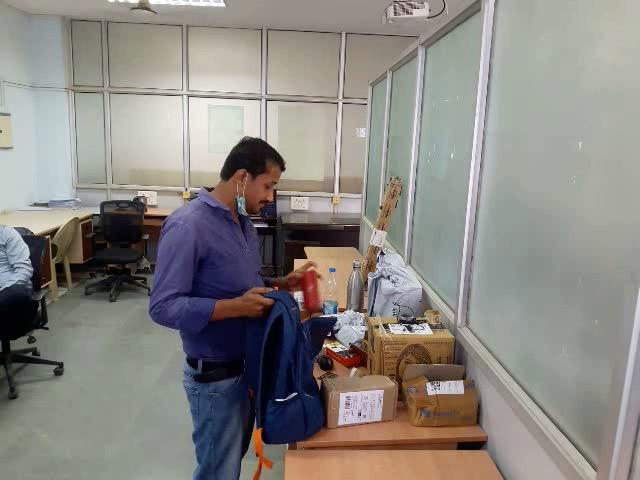shoplifting: (154, 236, 431, 426)
